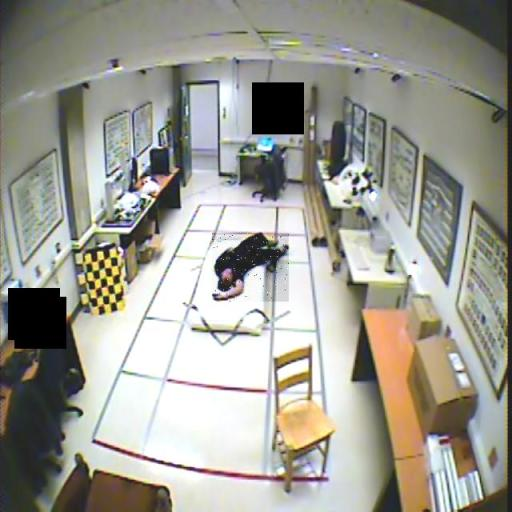Fall: (212, 233, 289, 302)
